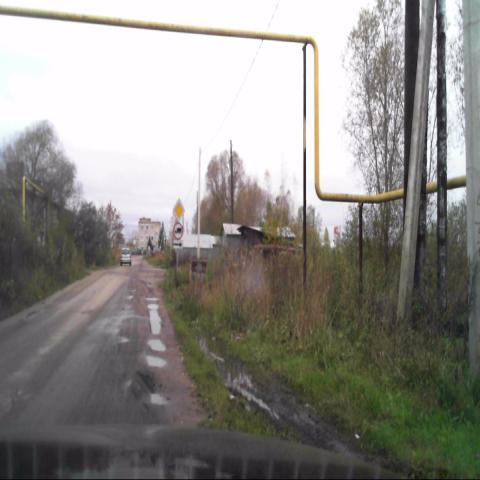2_1: (172, 198, 184, 222)
3_4_1: (173, 221, 183, 239)
